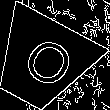O_SW: (10, 29, 74, 95)
